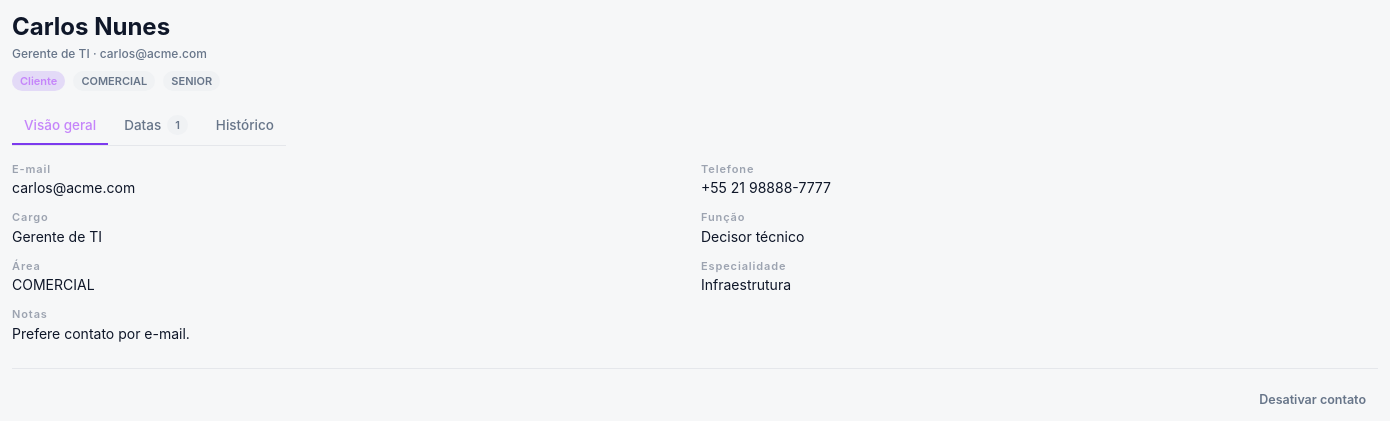
it: ContactDetailContent — interações (housekeeping) › troca para a aba Datas e mostra a data importante
Click the tab "Datas 1": (156, 126) [112,107,200,145]
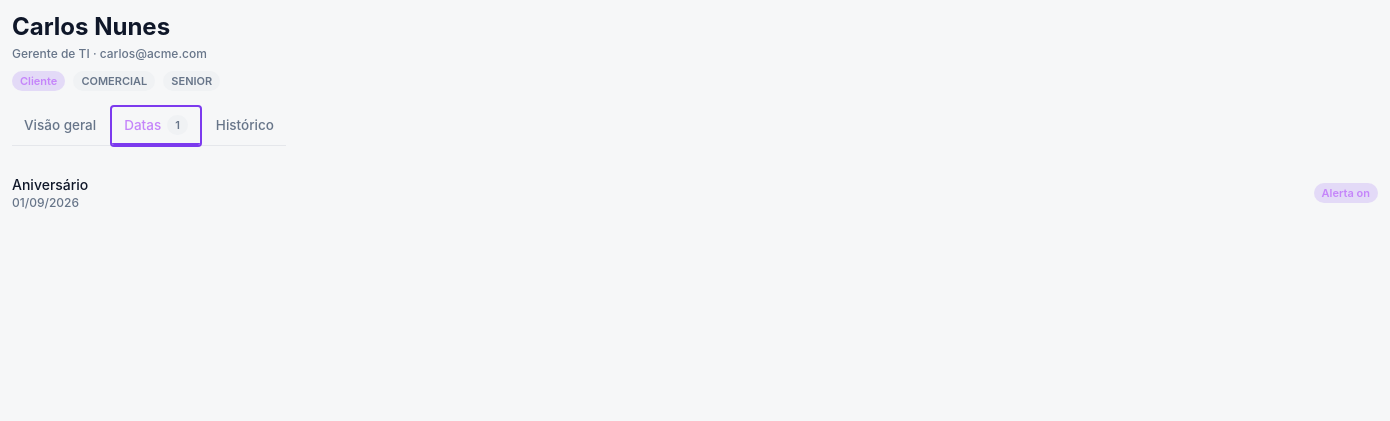
Now the text "Aniversário" is shown, box [12,174,88,195]
Now the text "Alerta on" is shown, box [1314,183,1378,203]
